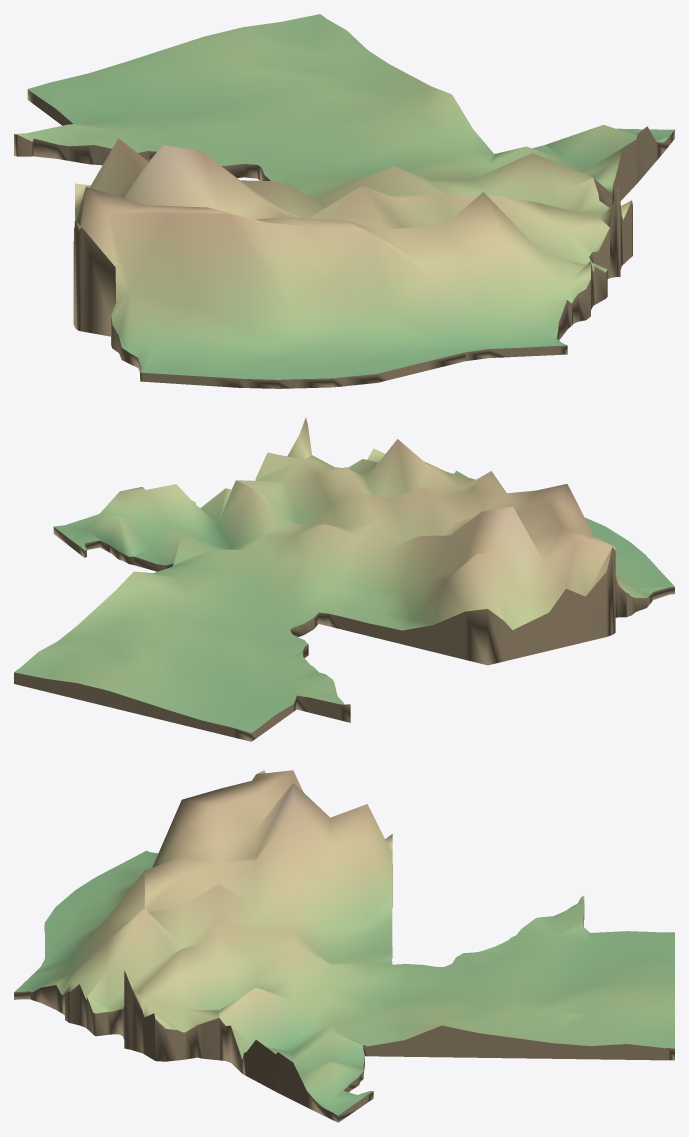
Rendered from GTM.glb.
3 views of the same model, one above another, from view 1: azimuth 30°, elevation 25°; view 2: azimuth 150°, elevation 25°; view 3: azimuth 270°, elevation 25° (orthographic). The views are drawn at different scales.
Parts seen in each view (by area): view 1: GTM; view 2: GTM; view 3: GTM.
Boxes of the visible parts, left/top/right/bottom form: GTM: left=14, top=14, right=674, bottom=388; GTM: left=14, top=417, right=674, bottom=741; GTM: left=14, top=770, right=674, bottom=1122.
Size of the model in its own units: 1.59 by 0.338 by 1.68.
